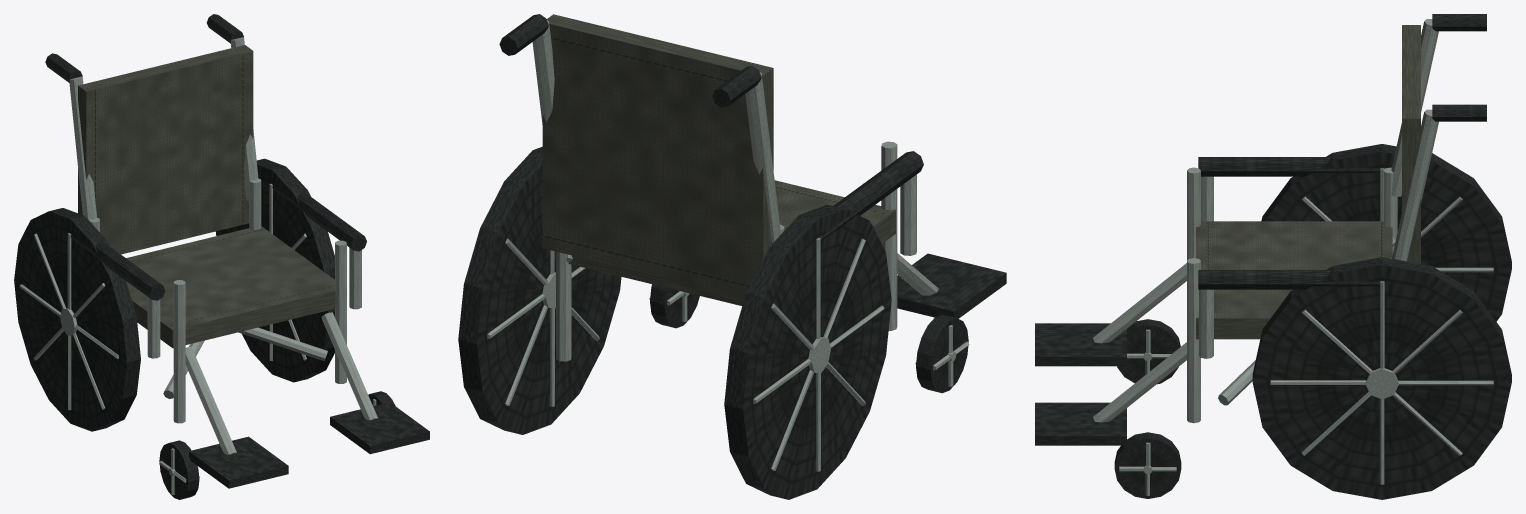
The model's file is Wheelchair.obj.
3 renders of one model, left to right at view 1: azimuth 30°, elevation 25°; view 2: azimuth 150°, elevation 25°; view 3: azimuth 270°, elevation 25°, orthographic. The views are drawn at different scales.
Visible parts, largest first — view 1: Wheelchair; view 2: Wheelchair; view 3: Wheelchair.
Boxes of the visible parts, <box> form: Wheelchair: <box>14,14,429,499</box>; Wheelchair: <box>458,14,1006,499</box>; Wheelchair: <box>1035,14,1511,499</box>.
Bounding box in the file's own units: 0.705 × 1 × 1.14.
3 materials, 3 textured.
